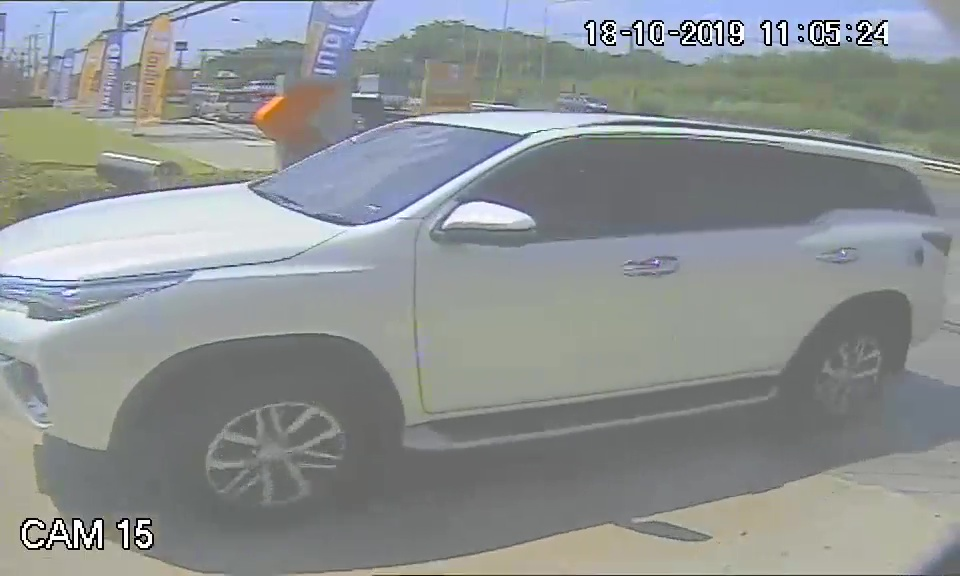pickup: (6, 106, 951, 468)
